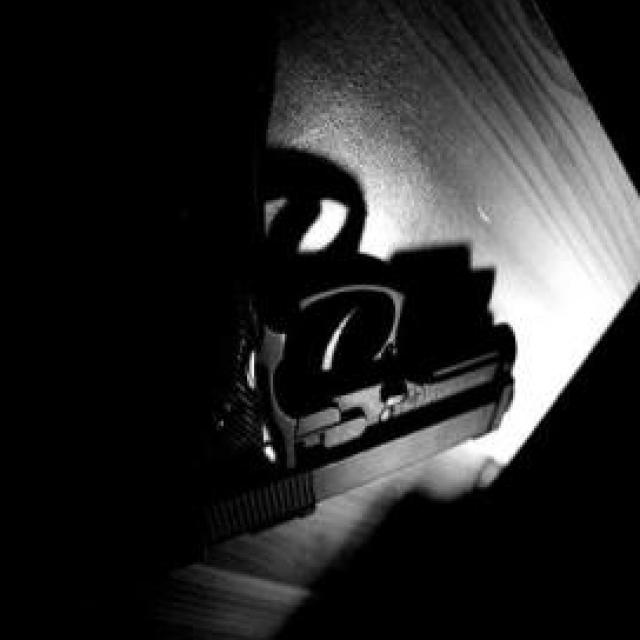pistol: (113, 115, 519, 598)
